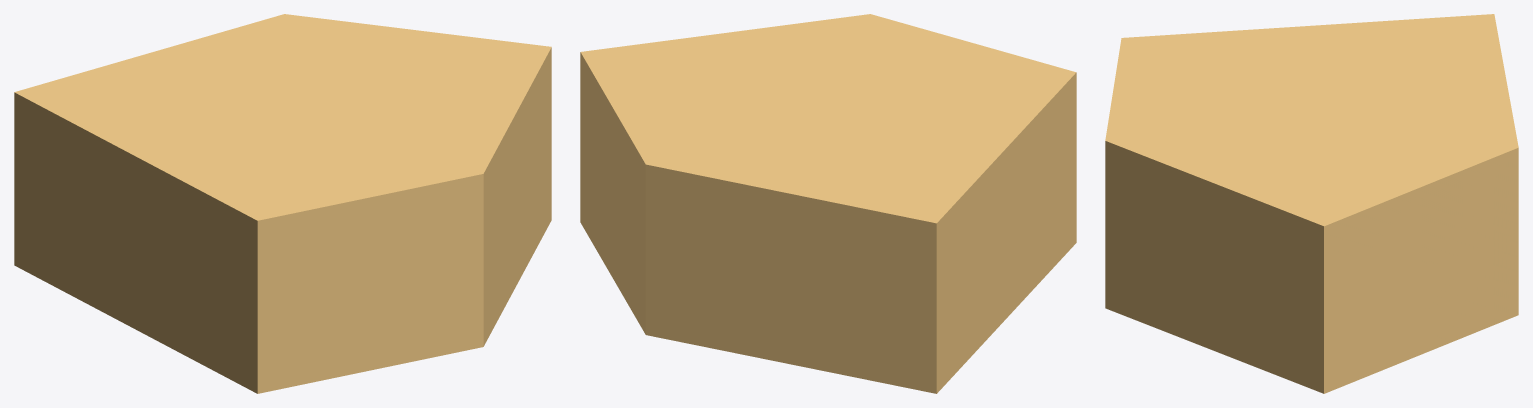
File: flat_rock_2.fbx
The picture shows the model from 3 angles, left to right: view 1: azimuth 30°, elevation 25°; view 2: azimuth 150°, elevation 25°; view 3: azimuth 270°, elevation 25°; orthographic projection. The views are drawn at different scales.
Visible parts, largest first — view 1: flat_rock_2; view 2: flat_rock_2; view 3: flat_rock_2.
Part boxes in pixels (bbox=[...]): flat_rock_2: bbox=[14, 14, 551, 393]; flat_rock_2: bbox=[580, 14, 1076, 393]; flat_rock_2: bbox=[1105, 14, 1518, 393].
Bounding box in the file's own units: 71.37 × 26.26 × 58.71.
